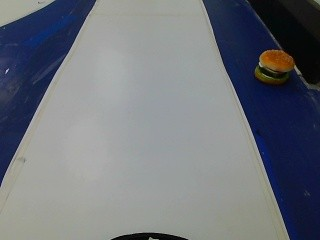burger: (252, 42, 299, 87)
